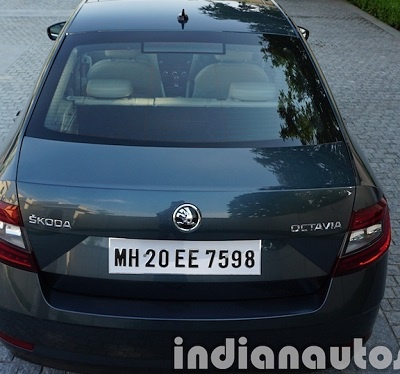plate: (104, 229, 281, 288)
